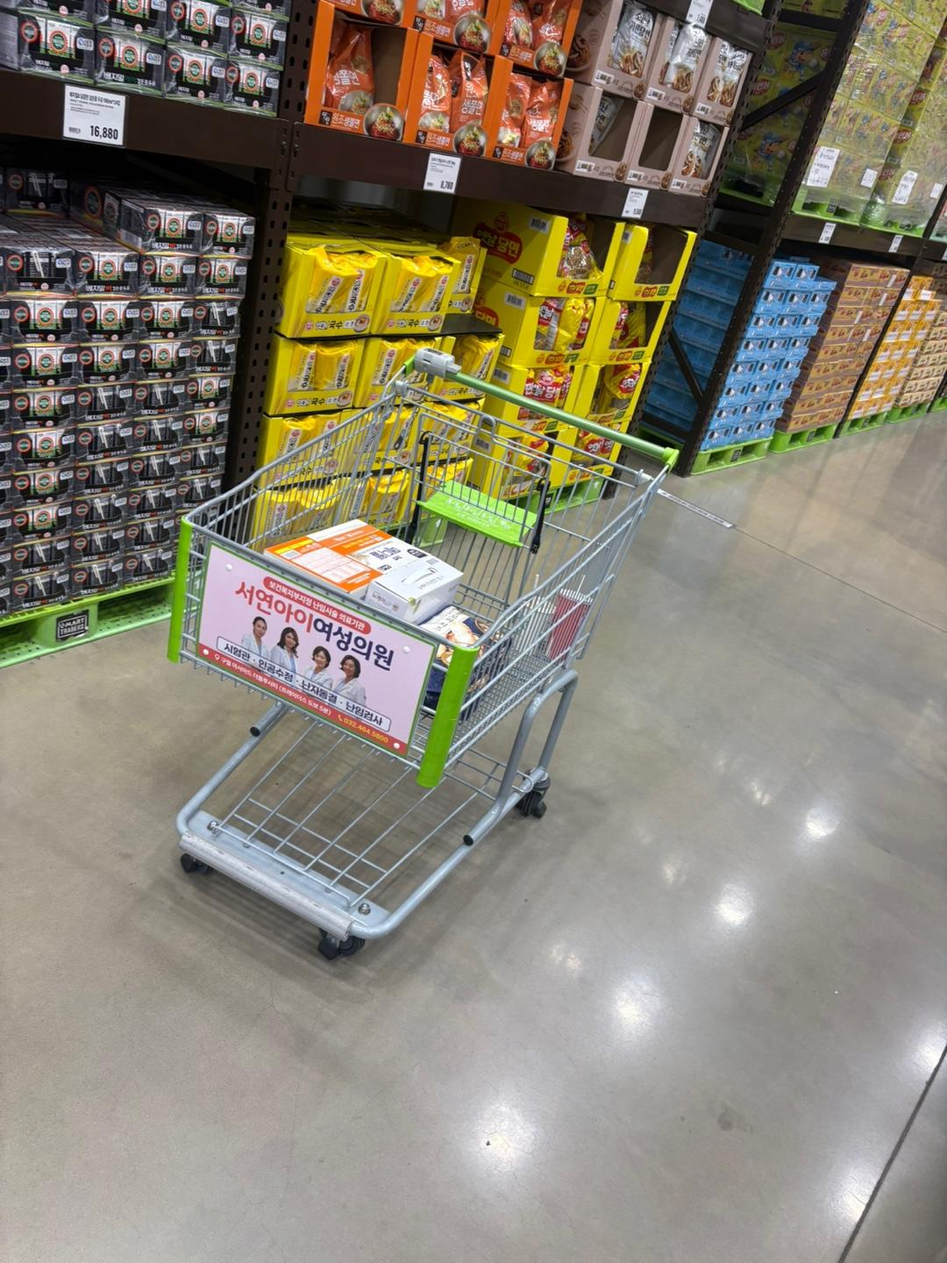fully_cart: (142, 332, 705, 987)
